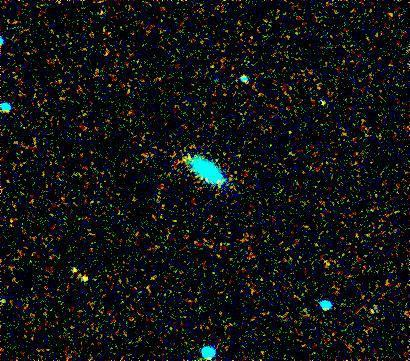star: (69, 265, 99, 295)
